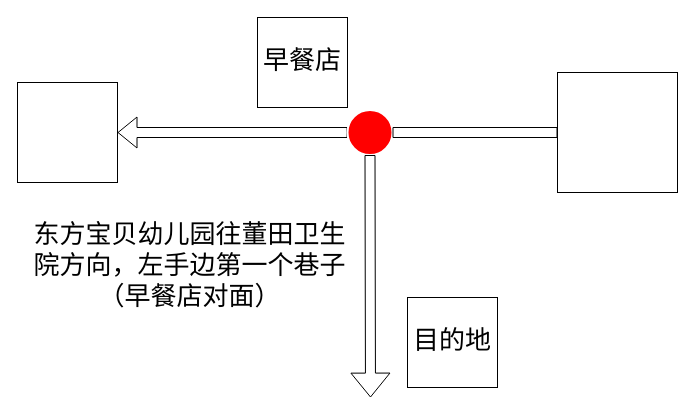
Some shapes in this 695 by 415 pixel diagram are drawn without their labels. The centre of each missing label's shape, as x and y in pixels:
东方宝贝幼儿园: point 617,132
董田卫生院: point 67,132
